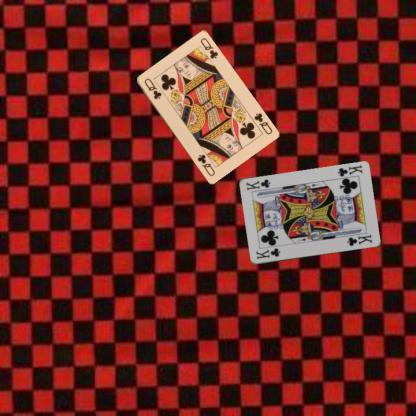Kc: (334, 163, 364, 178), (254, 245, 281, 260)
Qc: (252, 110, 274, 136), (141, 76, 163, 100)
